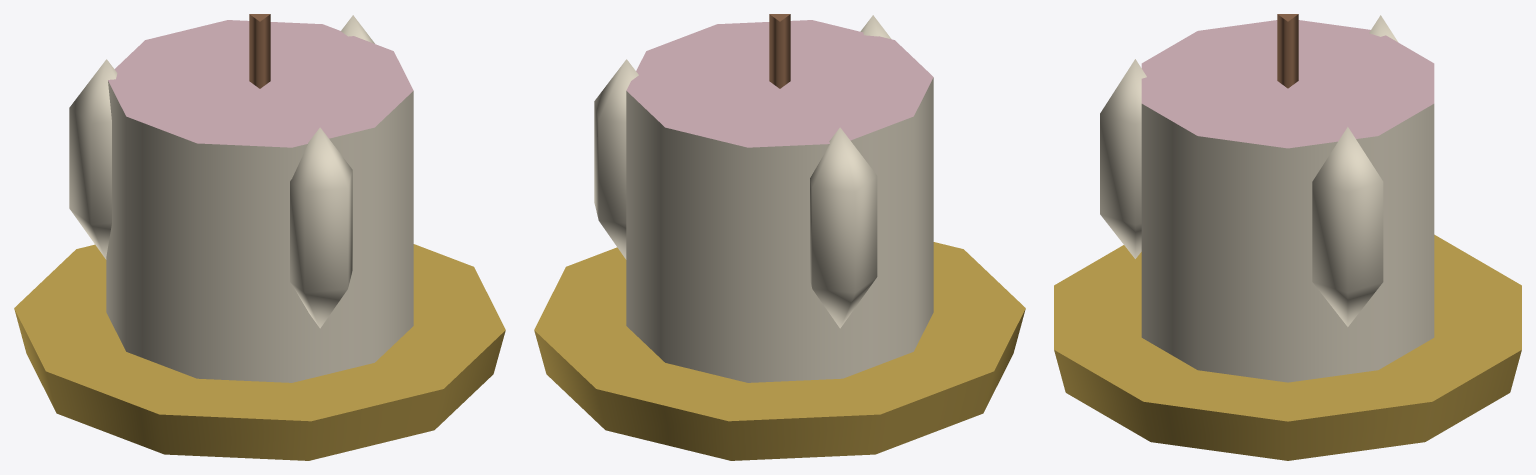
File: col_candle_stub.gltf
The picture shows the model from 3 angles, left to right: view 1: azimuth 30°, elevation 25°; view 2: azimuth 150°, elevation 25°; view 3: azimuth 270°, elevation 25°; orthographic projection.
Parts seen in each view (by area): view 1: col_candle_stub; view 2: col_candle_stub; view 3: col_candle_stub.
Boxes of the visible parts, x1=… form: col_candle_stub: x1=14, y1=14, x2=505, y2=460; col_candle_stub: x1=534, y1=14, x2=1025, y2=460; col_candle_stub: x1=1054, y1=14, x2=1521, y2=460.
Size of what is drawn, in the model's own units: 0.08 by 0.062 by 0.0761.
